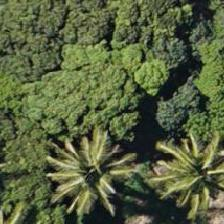coconut_tree: (35, 125, 125, 215), (163, 125, 223, 215)
